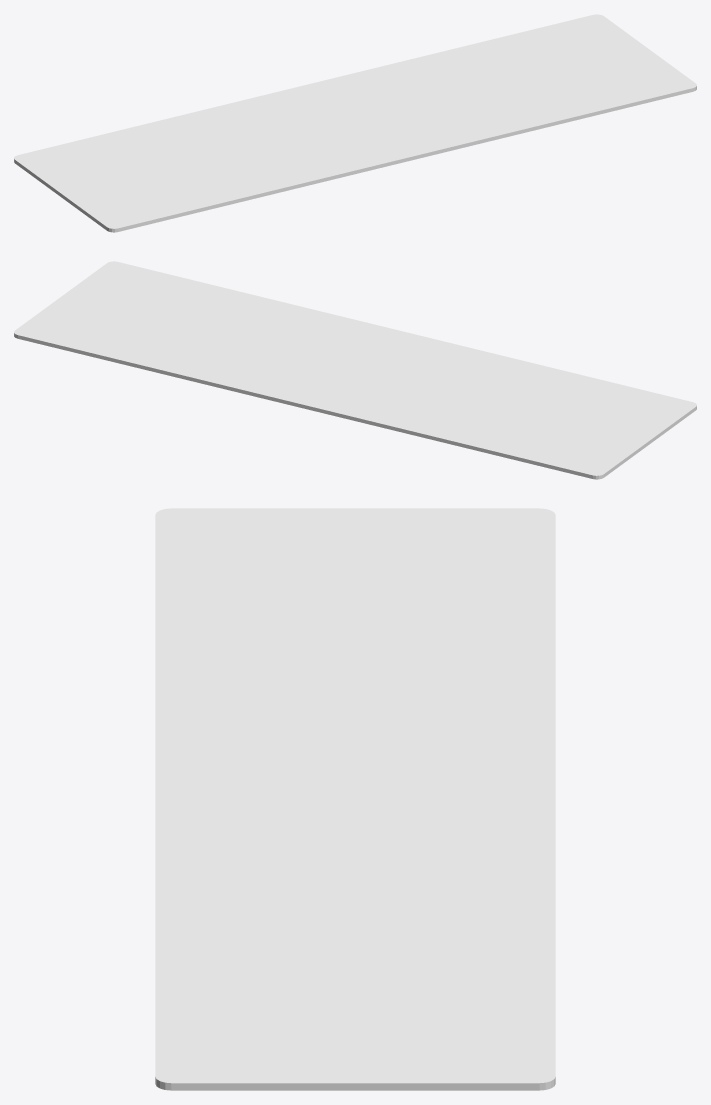
The model's file is humanchain_glass.full.fbx.
3 renders of one model, top to bottom at view 1: azimuth 30°, elevation 25°; view 2: azimuth 150°, elevation 25°; view 3: azimuth 270°, elevation 25°, orthographic. The views are drawn at different scales.
Parts seen in each view (by area): view 1: humanchain_glass_full; view 2: humanchain_glass_full; view 3: humanchain_glass_full.
Boxes of the visible parts, bbox=[...] form: humanchain_glass_full: bbox=[14, 14, 696, 232]; humanchain_glass_full: bbox=[14, 261, 696, 479]; humanchain_glass_full: bbox=[155, 508, 555, 1090].
Size of the model in its own units: 9.42 by 0.0564 by 2.77.
